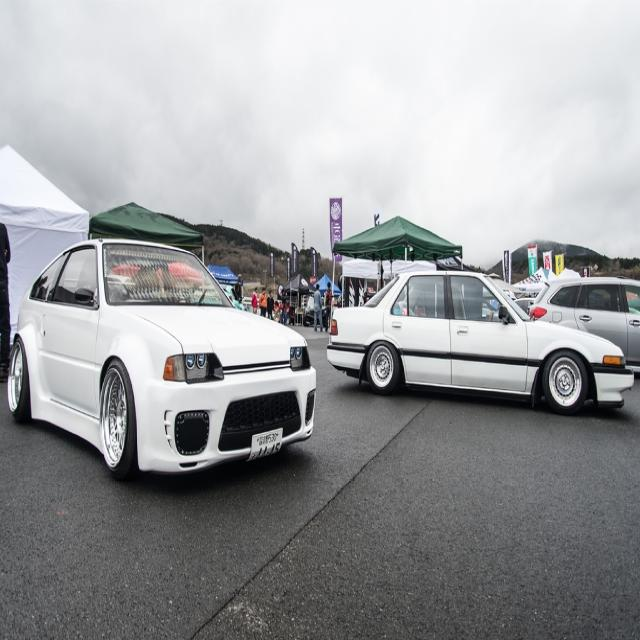car: (3, 236, 316, 477), (325, 261, 638, 416)
